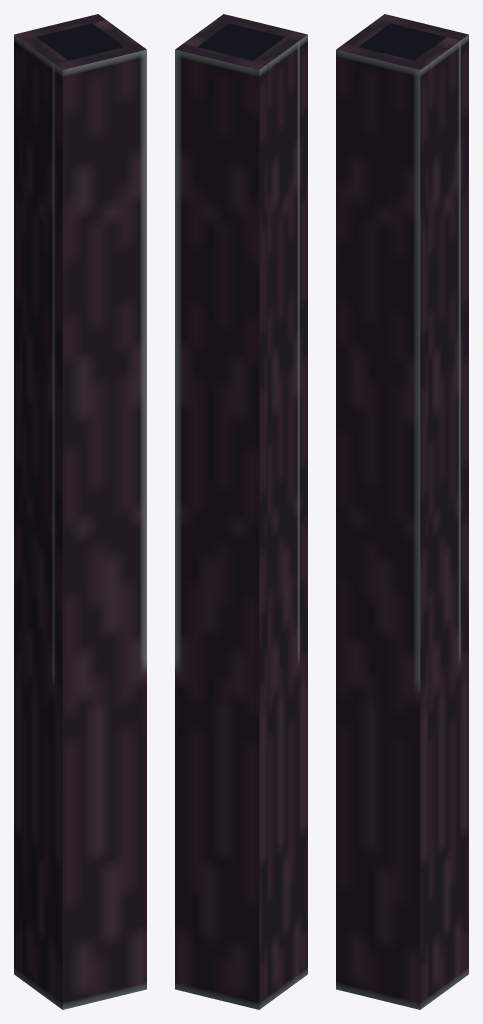
The model's file is CornerPoll.fbx.
3 renders of one model, left to right at view 1: azimuth 30°, elevation 25°; view 2: azimuth 150°, elevation 25°; view 3: azimuth 330°, elevation 25°, orthographic.
Parts seen in each view (by area): view 1: Poll; view 2: Poll; view 3: Poll.
Boxes of the visible parts, <box> form: Poll: <box>14,14,146,1009</box>; Poll: <box>175,14,307,1009</box>; Poll: <box>336,14,468,1009</box>.
Size of the model in its own units: 0.375 by 0.375 by 4.
